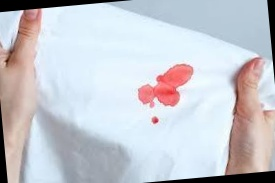blood: (135, 63, 196, 110), (150, 116, 159, 125)
